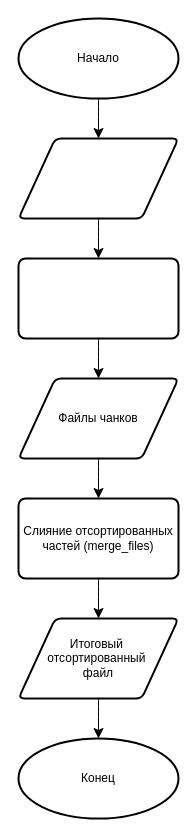
The diagram is 196 pixels wide and 836 high, and some of its shapes have lost their labels. Each missing label, with the centre of its shape:
"Входной файл" belongs at (98,178).
"Разделение файла на естественно отсортированные блоки (natural_split)" belongs at (98,298).
